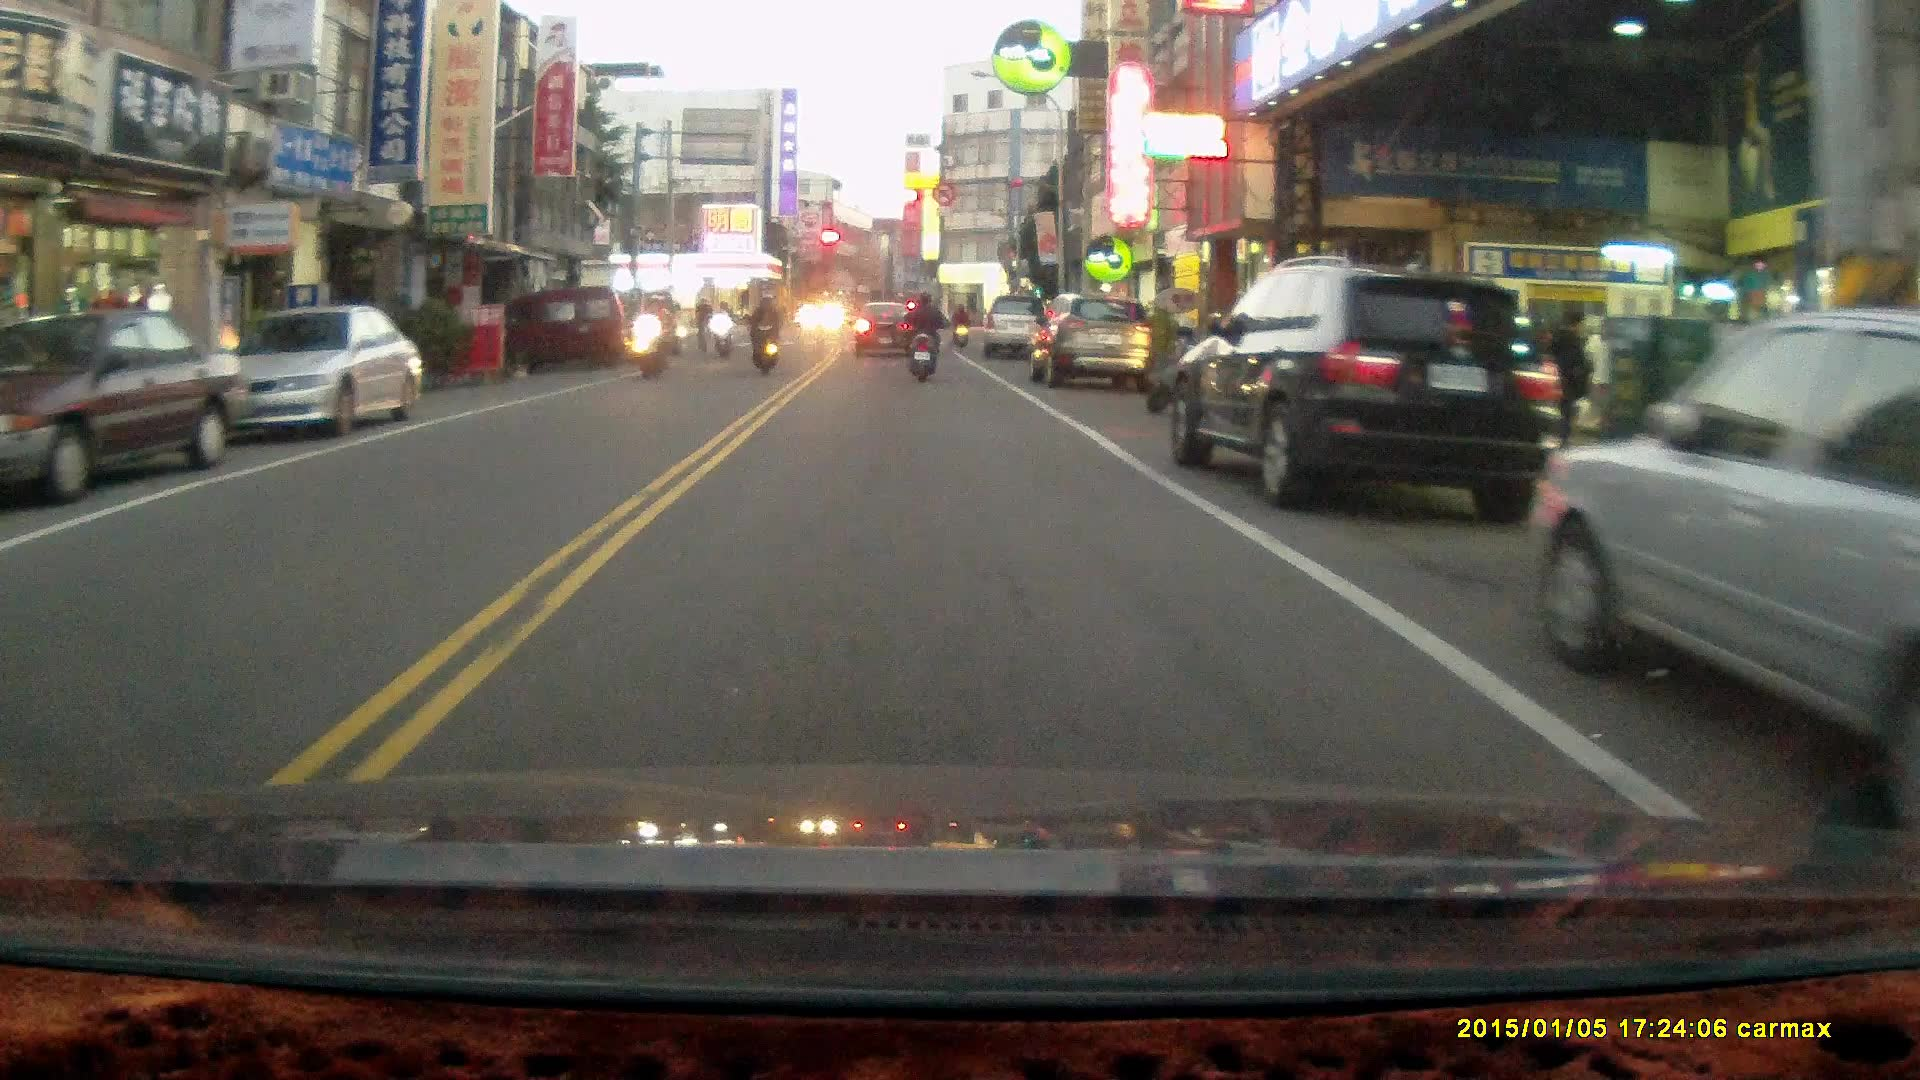pedestrian: (1545, 307, 1592, 488), (1583, 316, 1621, 436)
rider: (901, 288, 942, 380), (633, 292, 669, 381), (747, 290, 779, 374), (709, 295, 734, 355), (692, 291, 713, 354), (946, 296, 968, 343)
vehicle: (1525, 309, 1920, 782), (1170, 254, 1562, 518), (8, 304, 253, 506), (203, 303, 429, 438), (1027, 293, 1154, 385), (529, 284, 641, 362), (974, 290, 1062, 362)
